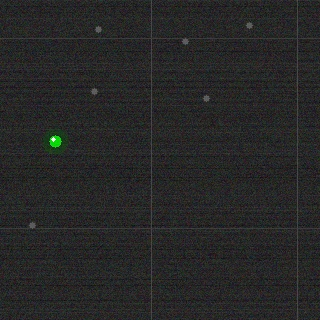green_normal: (47, 133, 63, 149)
